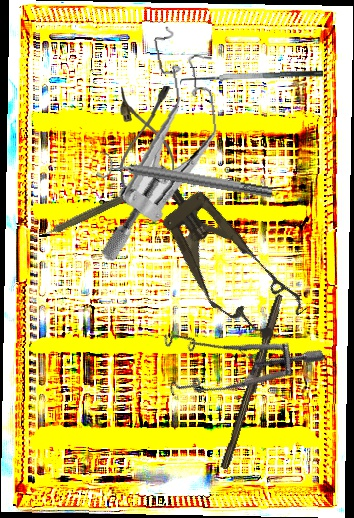Cannula: (119, 85, 175, 201)
Fixation Ring: (95, 148, 275, 209)
Handpiece: (32, 179, 150, 245)
Scalpel Handle: (220, 292, 287, 472)
Spatula Surgical: (179, 69, 324, 92)
Speculum: (125, 147, 311, 354), (77, 20, 234, 263), (143, 269, 327, 437)
